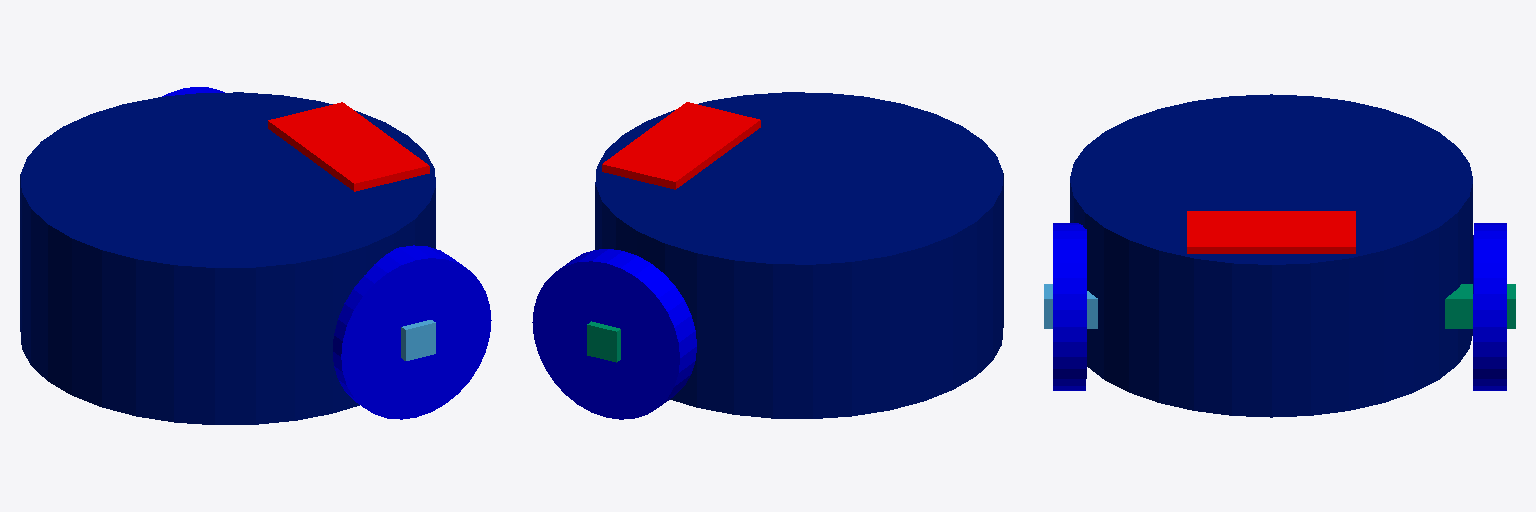
The robot description file, URDF, robot "Robot with 2 wheels":
<robot name="Robot with 2 wheels">
	<!-- CHASSIS LINK -->
	<link name="base_link">
		
		<inertial>
			<mass value="1"/>
		</inertial>

		<visual name="chassis">
			<origin xyz="0 0 0.06" rpy="0 0 0"/>
			<geometry>
				<cylinder radius="0.12" length="0.1"/>
			</geometry>
			<material name="">
				<color rgba="0 0.1 0.5 1"/>
			</material>
		</visual>
		
		<visual name="front_flag">
			<origin xyz="0.08 0 0.11" rpy="0 0 0"/>
			<geometry>
				<box size="0.05 0.1 0.01"/>
			</geometry>
			<material name="">
			<color rgba="1 0 0 1"/>
			</material>
		</visual>

		<collision name="chassis">
			<origin xyz="0 0 0.06" rpy="0 0 0"/>
			<geometry>
				<cylinder radius="0.12" length="0.1"/>
			</geometry>
		</collision>

	</link>
	
	<!-- RIGHT WHEEL LINK --> 
	<link name="right_wheel">
		<inertial>
			<mass value="1"/>
		</inertial>
		<visual name="wheel">
			<origin xyz="0 0 0" rpy="1.57 0 0"/>
			<geometry>
				<cylinder radius="0.05" length="0.02"/>
			</geometry>
			<material>
				<color rgba="0 0 1 1"/>
			</material>
		</visual>
		<visual name="shaft">
			<origin xyz="0 0.02 0" rpy="0 0 0"/>
			<geometry>
				<box size="0.02 0.07 0.02"/>
			</geometry>
			<material name="">
			
			</material>
		</visual>
		<collision>
			<origin xyz="0 0 0" rpy="1.57 0 0"/>
			<geometry>
				<cylinder radius="0.05" length="0.02"/>
			</geometry>
		</collision>

	</link>
	
	<joint name="right_joint" type="continuous">
		<origin xyz="0.05 -0.12 0.05" rpy="0 0 0"/>
		<parent link="base_link"/>
		<child link="right_wheel"/>
		<axis xyz="0.0 1.0 0.0"/>
		<limit effort="10" velocity="5.0"/>
	</joint>
	
	<!-- LEFT WHEEL LINK -->
	<link name="left_wheel">
		<inertial>
			<mass value="1"/>
		</inertial>
		<visual name="wheel">
			<origin xyz="0 0 0" rpy="1.57 0 0"/>
			<geometry>
				<cylinder radius="0.05" length="0.02"/>
			</geometry>
			<material>
				<color rgba="0 0 1 1"/>
			</material>
		</visual>
		
		<visual name="shaft">
			<origin xyz="0 -0.02 0" rpy="0 0 0"/>
			<geometry>
				<box size="0.02 0.07 0.02"/>
			</geometry>
			<material name="">
			
			</material>
		</visual>

		<collision>
			<origin xyz="0 0 0" rpy="1.57 0 0"/>
			<geometry>
				<cylinder radius="0.05" length="0.02"/>
			</geometry>
		</collision>

	</link>
	
	<joint name="left_joint" type="continuous">
		<origin xyz="0.05 0.13 0.05" rpy="0 0 0"/>
		<parent link="base_link"/>
		<child link="left_wheel"/>
		<axis xyz="0.0 1.0 0.0"/>
		<limit effort="10" velocity="5.0"/>
	</joint>
	
	<!-- BACK CASTER WHEEL LINK -->
	<link name="back_caster_wheel">
		<inertial>
			<mass value="2"/>
			<friction value="0.0" />
		</inertial>
        <visual>
            <geometry>
                <sphere radius="0.02"/>
            </geometry>
        <material>
			<color rgba="0 0 0 1"/>
		</material>
        </visual>
        <collision>
            <geometry>
				<!--><box size="0.1 0.1 0.04"/> -->
                <sphere radius="0.02"/>
            </geometry>
        </collision>
    </link>
	
	<joint name="back_caster_joint" type="fixed">
		<origin xyz="-0.10 0.0 0.020" rpy="0 0 0"/>
		<parent link="base_link"/>
		<child link="back_caster_wheel"/>
	</joint>
	
	<gobotics name="control_robot" type="diff_drive">
        <right_wheel joint="right_joint"/>
        <left_wheel joint="left_joint"/>
		<max_speed value="8.0"/>
    </gobotics>
</robot>

--- Render facts (derived) ---
The picture shows the robot from 3 angles, left to right: view 1: azimuth 30°, elevation 25°; view 2: azimuth 150°, elevation 25°; view 3: azimuth 270°, elevation 25°; orthographic projection.
Robot: Robot with 2 wheels — 4 links, 3 joints (2 continuous, 1 fixed); root link base_link; default pose: every joint at zero.
Links seen in each view (by area): view 1: base_link, right_wheel; view 2: base_link, left_wheel; view 3: base_link, left_wheel, right_wheel.
Boxes of the visible links, x1,y1,x2,y2 form: base_link: [20, 92, 435, 424]; right_wheel: [333, 245, 491, 419]; base_link: [595, 92, 1003, 418]; left_wheel: [532, 249, 696, 419]; base_link: [1070, 94, 1472, 417]; left_wheel: [1445, 223, 1515, 390]; right_wheel: [1044, 223, 1097, 390].
Bounding box of the posed robot: 0.24 × 0.28 × 0.115 m (x, y, z).
Geometry: primitives only (box / cylinder / sphere), no mesh files.